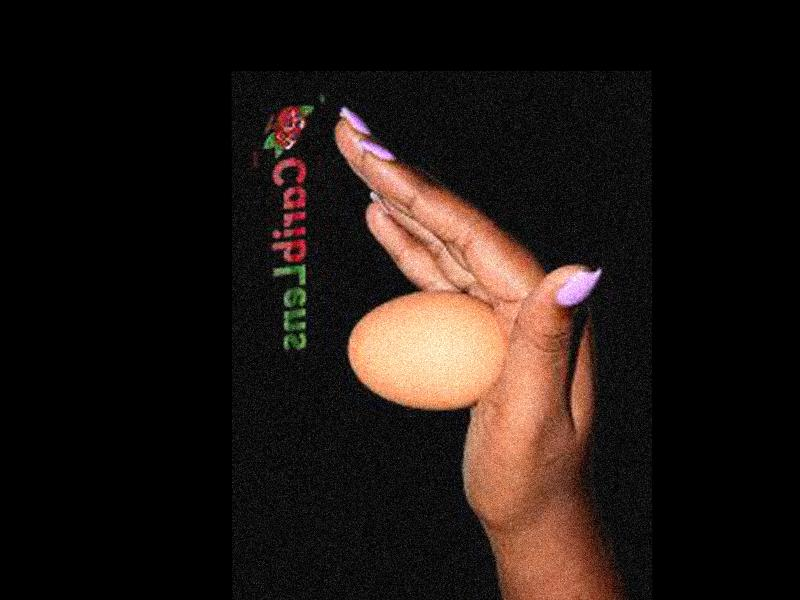Eggs: (347, 289, 505, 410)
